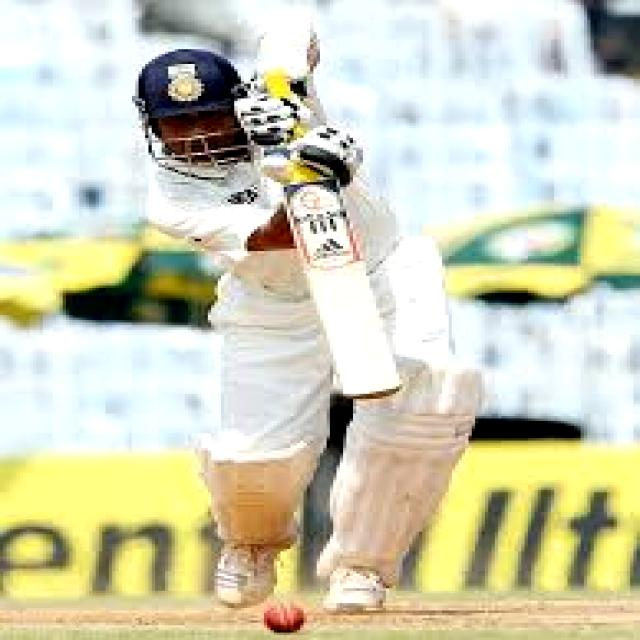toe: (335, 352, 403, 410)
